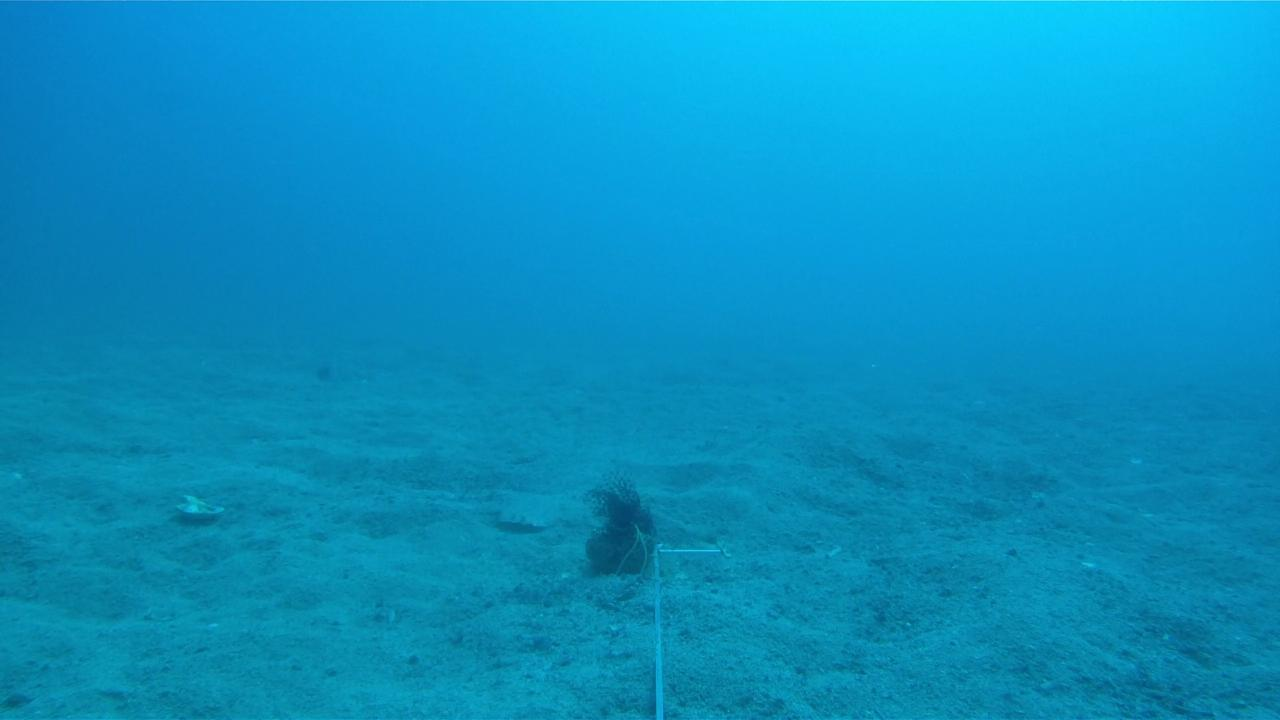bothus: (492, 485, 562, 532)
